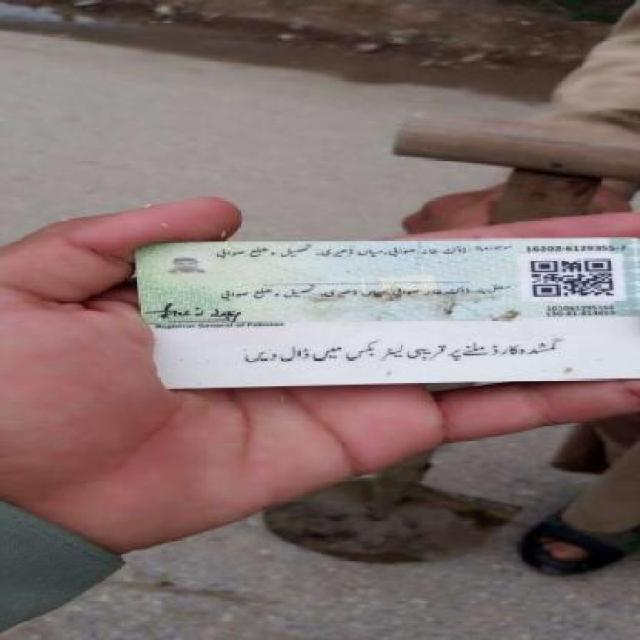Back: (115, 232, 636, 392)
